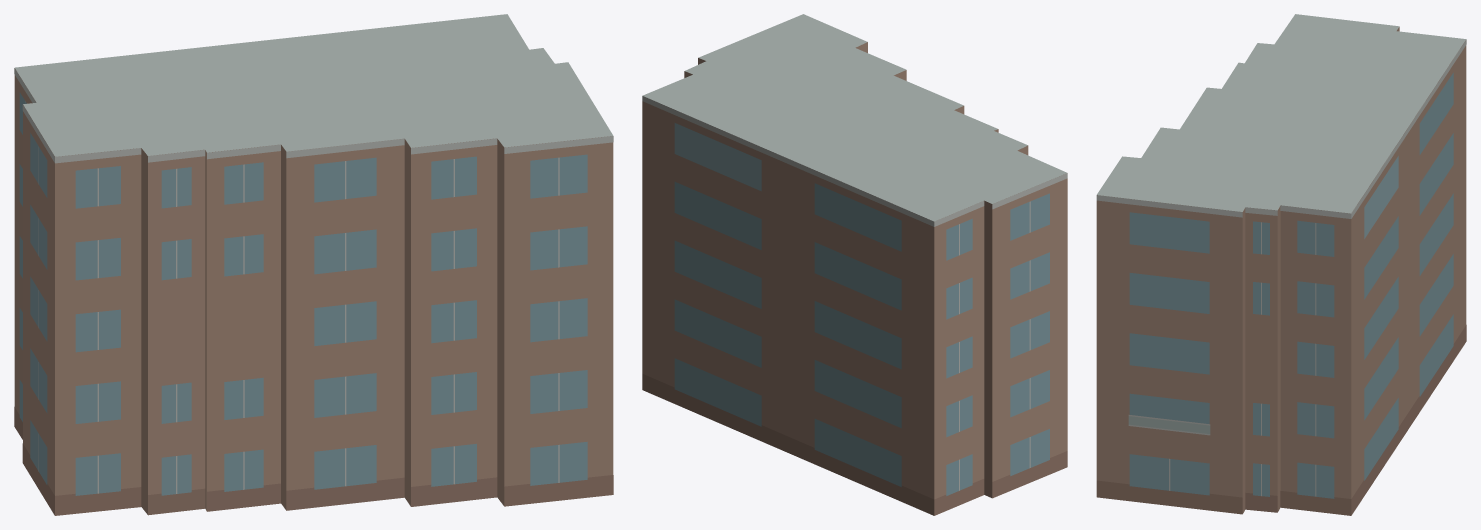
The model's file is survey-upis-32875041.glb.
The picture shows the model from 3 angles, left to right: view 1: azimuth 30°, elevation 25°; view 2: azimuth 150°, elevation 25°; view 3: azimuth 270°, elevation 25°; orthographic projection. The views are drawn at different scales.
Parts seen in each view (by area): view 1: survey-upis-32875041.tmp; view 2: survey-upis-32875041.tmp; view 3: survey-upis-32875041.tmp.
Part boxes in pixels (<box>): survey-upis-32875041.tmp: <box>14,14,613,515</box>; survey-upis-32875041.tmp: <box>642,14,1067,515</box>; survey-upis-32875041.tmp: <box>1096,14,1466,515</box>.
Size of the model in its own units: 18.84 by 13.3 by 14.76.
